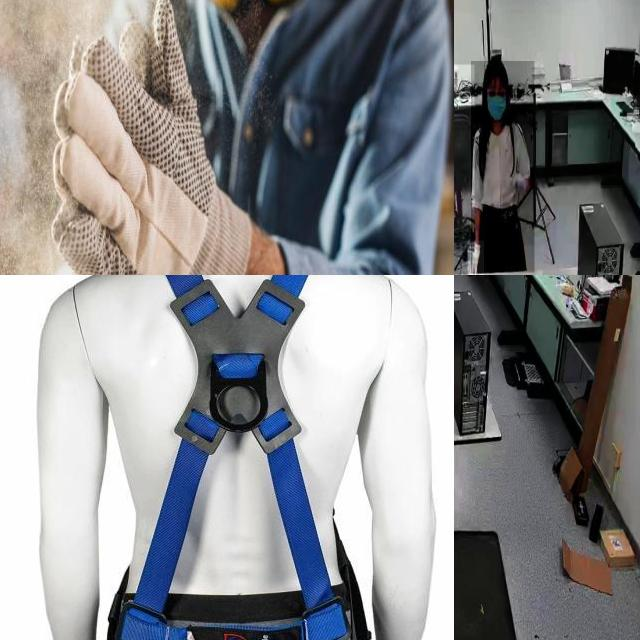Harness: (112, 275, 364, 640)
face_mask: (483, 92, 511, 122)
hand_glove: (38, 0, 258, 275), (467, 240, 484, 275)
head_nohelmet: (483, 58, 507, 76)
person: (471, 61, 535, 273), (454, 64, 474, 232)
